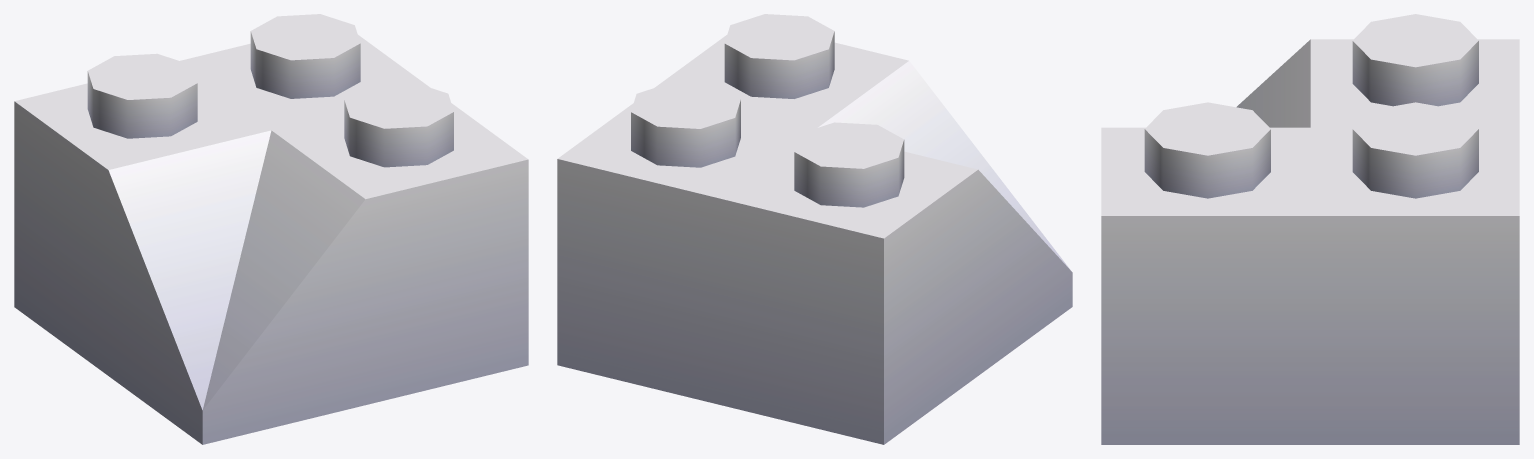
Rendered from kenney-brick-round-lq-brick-slope-corner-inside-2-x-2.glb.
3 renders of one model, left to right at view 1: azimuth 30°, elevation 25°; view 2: azimuth 150°, elevation 25°; view 3: azimuth 270°, elevation 25°, orthographic. The views are drawn at different scales.
Parts seen in each view (by area): view 1: round-lq-brick-slope-corner-inside-2x2; view 2: round-lq-brick-slope-corner-inside-2x2; view 3: round-lq-brick-slope-corner-inside-2x2.
Part boxes in pixels (x1=…): round-lq-brick-slope-corner-inside-2x2: x1=14, y1=14, x2=528, y2=444; round-lq-brick-slope-corner-inside-2x2: x1=557, y1=14, x2=1072, y2=444; round-lq-brick-slope-corner-inside-2x2: x1=1101, y1=14, x2=1519, y2=444.
Size of the model in its own units: 0.159 by 0.114 by 0.159.
1 material, 1 textured.
